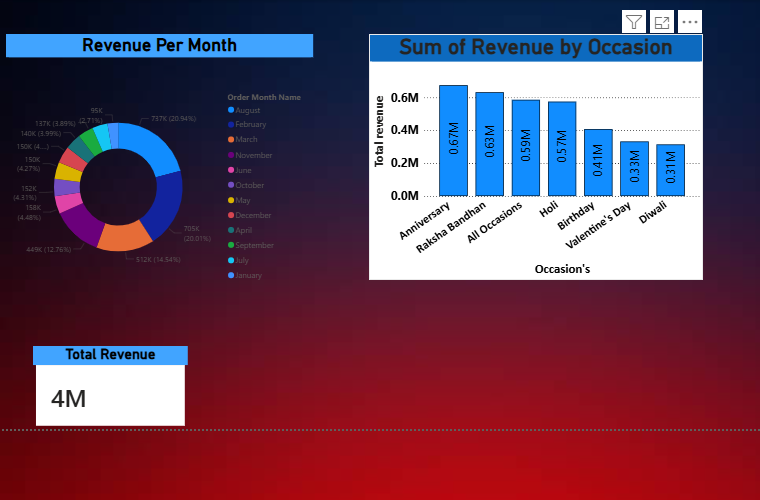

Layout of this report page (visuals, bound fields, positions):
{"tool":"powerbi","page":{"name":"Page 3","canvas":[1280,720],"ordinal":2},"visuals":[{"type":"donutChart","title":"Revenue Per Month","fields":{"Category":["orders.Order Month Name"],"Y":["Sum(orders.Revenue)"]},"box":[10,57.5,516.2,480],"z":0},{"type":"cardVisual","title":"Total Revenue","fields":{"Data":["Sum(orders.Revenue)"]},"box":[55.4,581.2,260.4,139.4],"z":1000},{"type":"clusteredColumnChart","fields":{"Category":["products.Occasion"],"Y":["Sum(orders.Revenue)"]},"box":[610,91.7,560,413.3],"z":2000}]}

Visuals, with their boxes on the page's 1280x720 design canvas (x1, y1, x2, y2). These are canvas units, not pixel positions in the 760x500 screenshot, which may show the page scaled, cropped or inside an application window:
"Revenue Per Month" donutChart: crop(10, 58, 526, 538)
"Total Revenue" cardVisual: crop(55, 581, 316, 721)
clusteredColumnChart - products.Occasion x Sum(orders.Revenue): crop(610, 92, 1170, 505)
